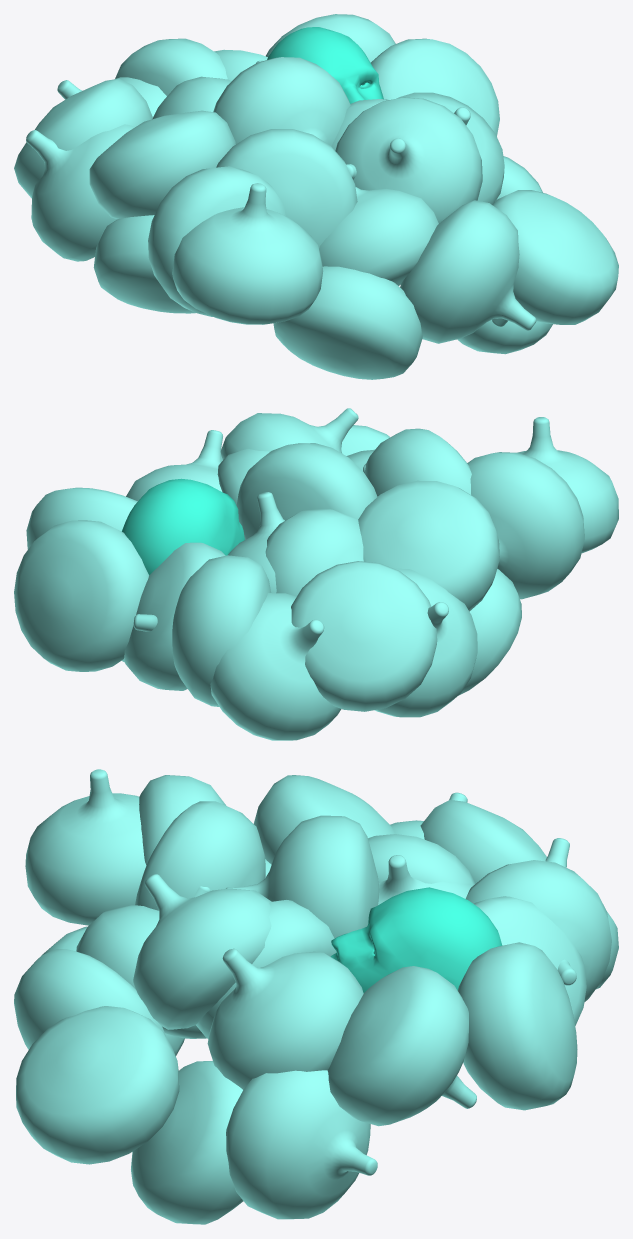
File: AjosCabesa_Medio.FBX
3 renders of one model, top to bottom at view 1: azimuth 30°, elevation 25°; view 2: azimuth 150°, elevation 25°; view 3: azimuth 270°, elevation 25°, orthographic. The views are drawn at different scales.
Parts seen in each view (by area): view 1: Ajo_low230, Ajo_low229, Ajo_low209, Ajo_low205, Ajo_low206, Ajo_low210, Ajo_low227, Ajo_low219, Ajo_low214, Ajo_low228, Ajo_low208, Ajo_low212 (+12 smaller); view 2: Ajo_low220, Ajo_low224, Ajo_low210, Ajo_low221, Ajo_low208, Ajo_low226, Ajo_low219, EX_CuerpoBase_low001, Ajo_low214, Ajo_low225, Ajo_low223, Ajo_low227 (+8 smaller); view 3: Ajo_low206, Ajo_low212, Ajo_low215, Ajo_low224, Ajo_low218, Ajo_low209, Ajo_low230, Ajo_low222, EX_CuerpoBase_low001, Ajo_low219, Ajo_low227, Ajo_low226 (+11 smaller).
Boxes of the visible parts, box(x1,y1,x2,y2) form: Ajo_low230: box(172, 183, 323, 324); Ajo_low229: box(400, 200, 536, 343); Ajo_low209: box(335, 97, 482, 223); Ajo_low205: box(273, 266, 422, 379); Ajo_low206: box(492, 190, 618, 326); Ajo_low210: box(89, 110, 235, 219); Ajo_low227: box(216, 129, 357, 248); Ajo_low219: box(213, 57, 350, 146); Ajo_low214: box(26, 124, 134, 261); Ajo_low228: box(319, 187, 438, 285); Ajo_low208: box(148, 166, 285, 316); Ajo_low212: box(371, 38, 499, 136); Ajo_low220: box(291, 561, 437, 711); Ajo_low224: box(14, 520, 148, 671); Ajo_low210: box(358, 480, 499, 611); Ajo_low221: box(210, 593, 341, 740); Ajo_low208: box(467, 452, 584, 599); Ajo_low226: box(133, 555, 271, 706); Ajo_low219: box(236, 443, 377, 539); EX_CuerpoBase_low001: box(122, 478, 244, 575); Ajo_low214: box(375, 568, 477, 717); Ajo_low225: box(124, 542, 225, 690); Ajo_low223: box(265, 509, 363, 596); Ajo_low227: box(364, 428, 471, 496); Ajo_low206: box(16, 1006, 179, 1164); Ajo_low212: box(327, 966, 476, 1126); Ajo_low215: box(226, 1070, 377, 1219); Ajo_low224: box(458, 942, 577, 1110); Ajo_low218: box(207, 948, 363, 1089); Ajo_low209: box(133, 874, 271, 1029); Ajo_low230: box(25, 769, 146, 925); Ajo_low222: box(131, 1061, 243, 1224); EX_CuerpoBase_low001: box(330, 887, 502, 992); Ajo_low219: box(226, 815, 379, 938); Ajo_low227: box(135, 801, 265, 910); Ajo_low226: box(465, 860, 611, 1002).
Size of the model in its own units: 73.78 by 44.5 by 79.28.
